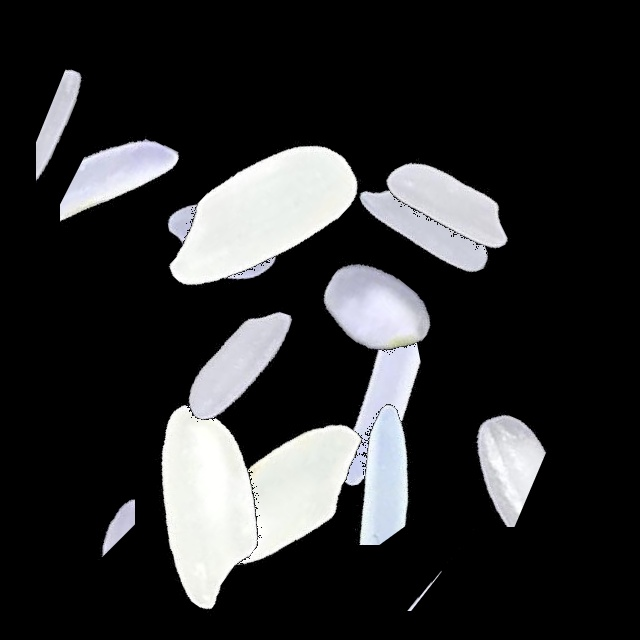Broken: (258, 267, 425, 517), (228, 386, 478, 545), (60, 96, 200, 346), (343, 388, 593, 527), (36, 26, 156, 276), (260, 505, 510, 611), (34, 378, 135, 628)
Full: (299, 106, 549, 356), (154, 369, 404, 619), (323, 84, 573, 334), (100, 117, 350, 367), (253, 184, 503, 434), (135, 92, 385, 342), (73, 379, 323, 629), (113, 241, 363, 491)
